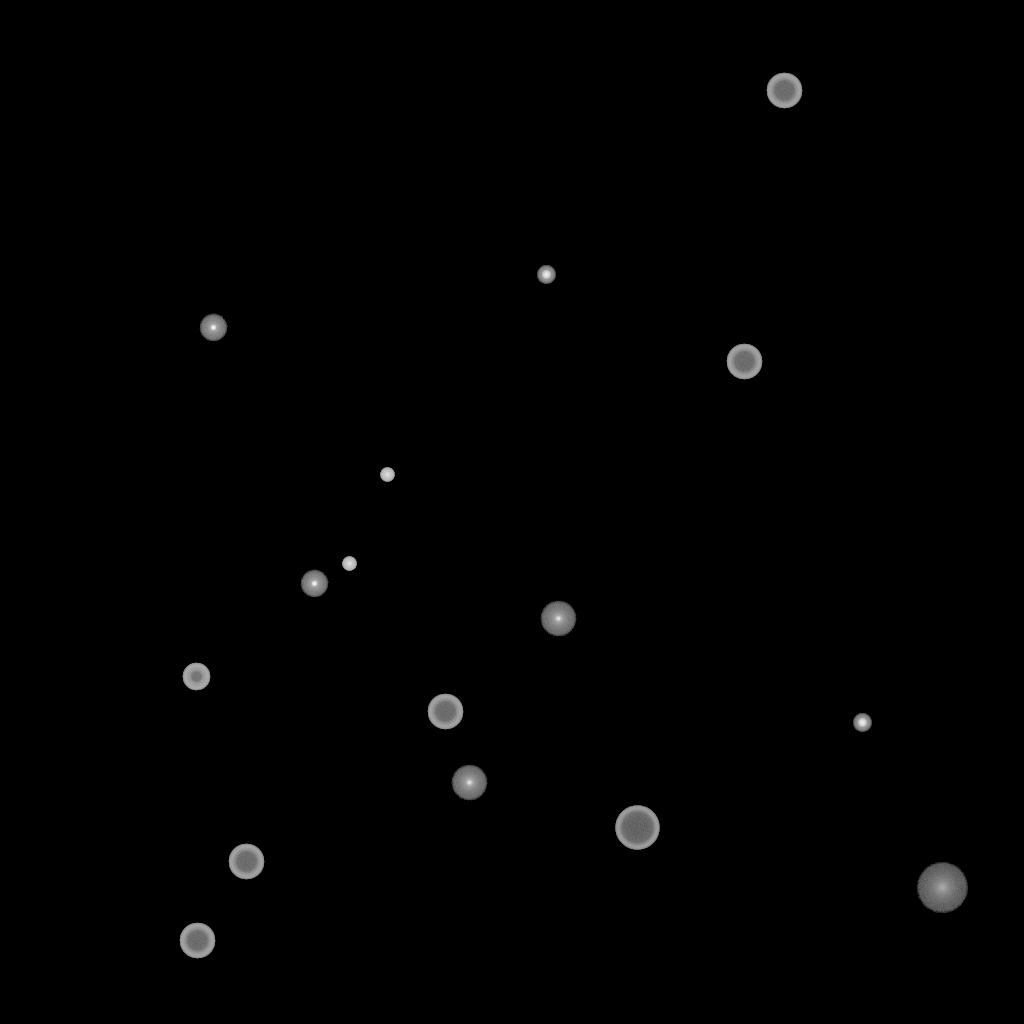depth:-10: (199, 314, 227, 342), (300, 570, 328, 598)
depth:-20: (537, 266, 555, 284), (853, 714, 871, 732)
depth:-30: (380, 468, 394, 482), (342, 557, 356, 571)
depth:-50: (182, 663, 210, 691)
depth:-60: (179, 923, 215, 959), (726, 344, 762, 380), (228, 844, 264, 880), (766, 73, 802, 109), (427, 694, 463, 730)
depth:-70: (615, 806, 659, 850)
depth:0: (540, 601, 576, 637), (451, 765, 487, 801)
depth:20: (916, 863, 968, 913)
